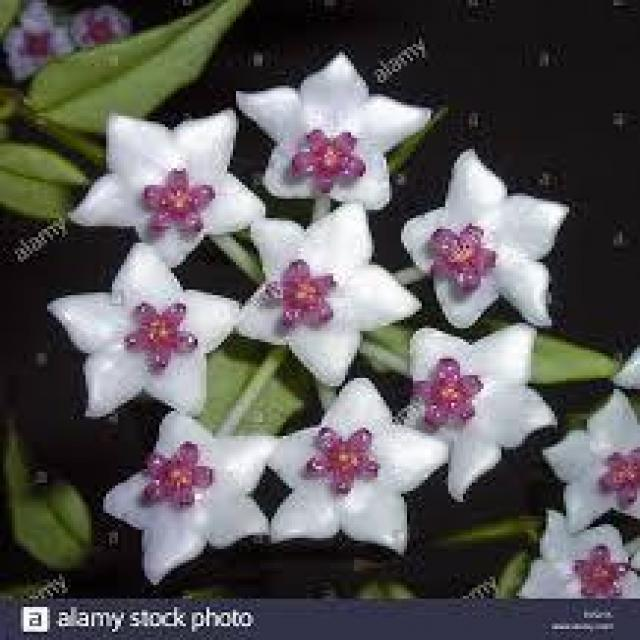organic waste: (80, 100, 569, 558)
